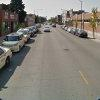Car: (39, 22, 56, 37)
